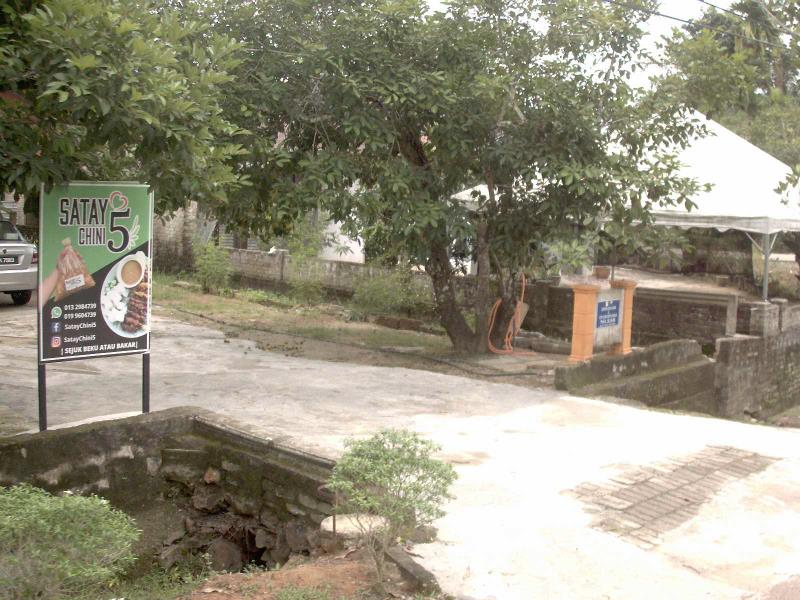ads_sign: (26, 174, 166, 379)
